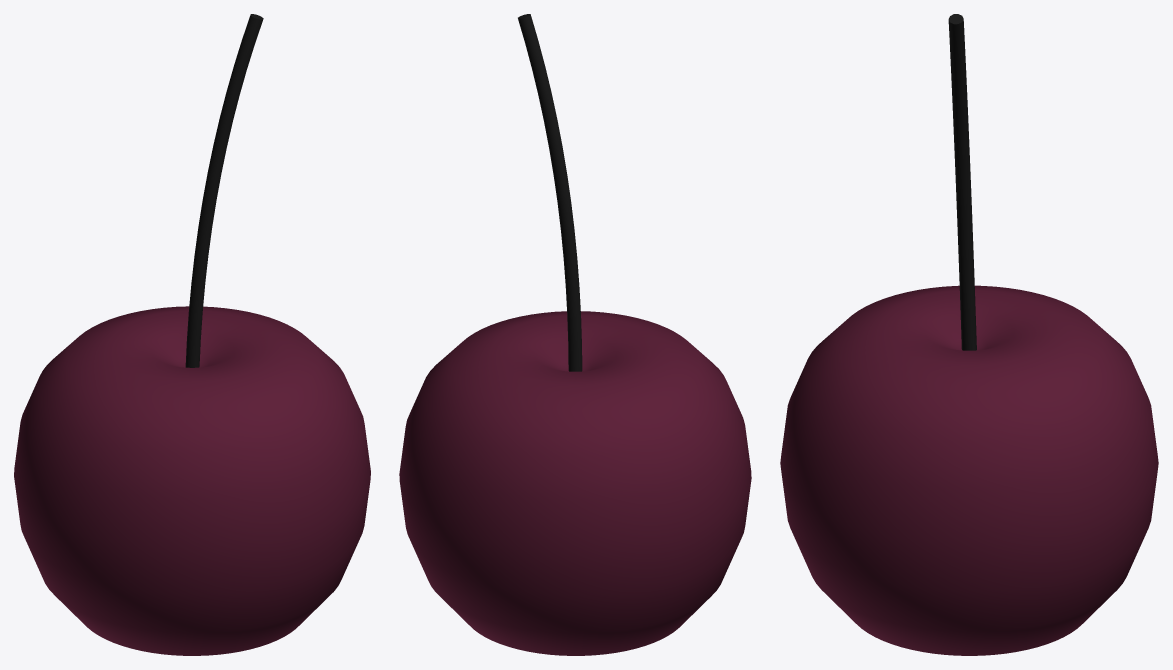
Rendered from recDwSeHAbGE6zKCo.glb.
3 views of the same model, side by side, from view 1: azimuth 30°, elevation 25°; view 2: azimuth 150°, elevation 25°; view 3: azimuth 270°, elevation 25° (orthographic). The views are drawn at different scales.
Parts seen in each view (by area): view 1: Cerise_Corps; view 2: Cerise_Corps; view 3: Cerise_Corps.
Boxes of the visible parts, x1,y1,x2,y2 form: Cerise_Corps: (14, 14, 370, 655); Cerise_Corps: (399, 14, 751, 655); Cerise_Corps: (780, 14, 1158, 655).
Bounding box in the file's own units: 0.17 × 0.3191 × 0.17.
